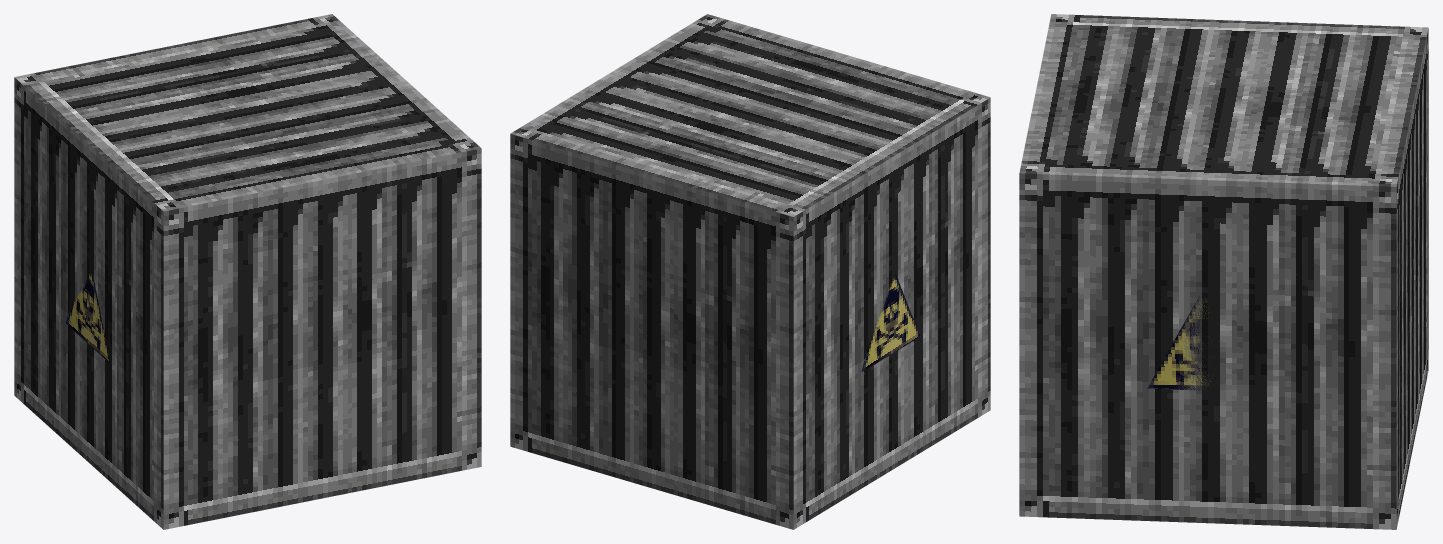
The model's file is primary_064.glb.
The picture shows the model from 3 angles, left to right: view 1: azimuth 30°, elevation 25°; view 2: azimuth 150°, elevation 25°; view 3: azimuth 270°, elevation 25°; orthographic projection. The views are drawn at different scales.
Parts seen in each view (by area): view 1: Object; view 2: Object; view 3: Object.
Boxes of the visible parts, x1,y1,x2,y2 form: Object: (14,14,481,529); Object: (510,14,990,529); Object: (1019,14,1428,529).
Size of the model in its own units: 0.9967 by 0.9221 by 0.9967.
2 materials, 2 textured.
